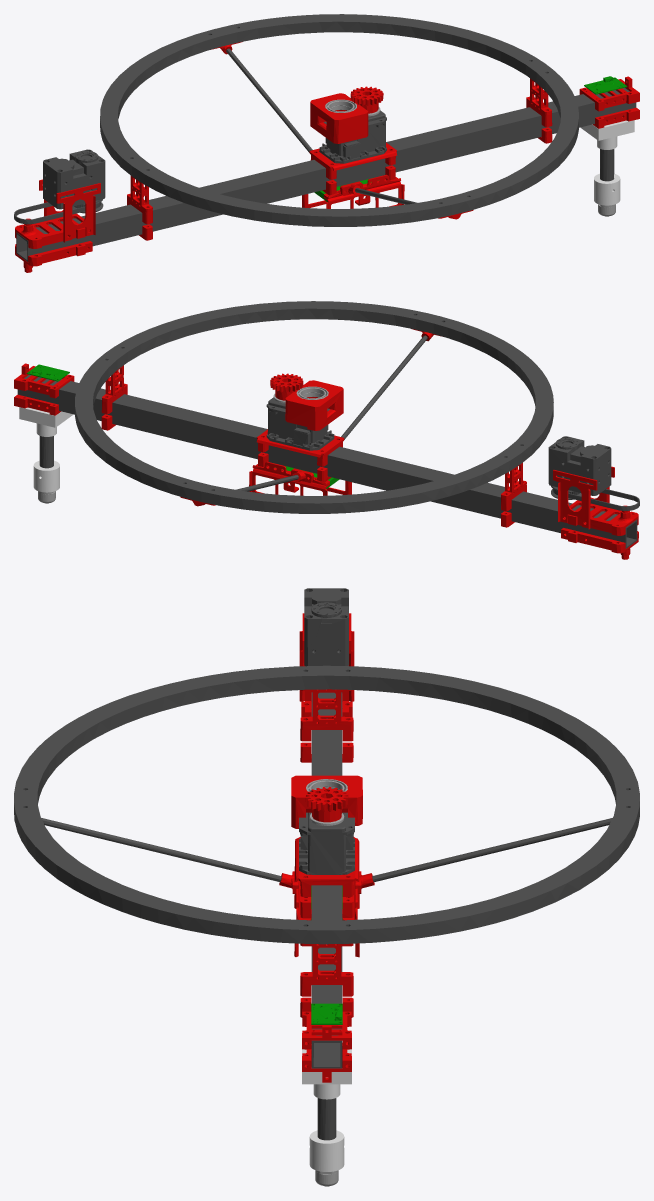
File: end_link.dae
3 renders of one model, top to bottom at view 1: azimuth 30°, elevation 25°; view 2: azimuth 150°, elevation 25°; view 3: azimuth 270°, elevation 25°, orthographic. The views are drawn at different scales.
Parts seen in each view (by area): view 1: Black, Red, White, Silver, Green; view 2: Black, Red, White, Silver, Green; view 3: Black, Red, White, Silver.
Part boxes in pixels (<box>): Black: <box>14,14,636,261</box>; Red: <box>15,41,639,272</box>; White: <box>580,120,634,205</box>; Silver: <box>325,99,615,216</box>; Green: <box>314,76,627,201</box>; Black: <box>17,301,639,548</box>; Red: <box>14,328,638,559</box>; White: <box>19,407,73,492</box>; Silver: <box>38,386,328,503</box>; Green: <box>26,364,339,488</box>; Black: <box>14,588,639,1140</box>; Red: <box>279,613,374,1082</box>; White: <box>302,1049,351,1171</box>; Silver: <box>306,779,347,1186</box>.
Size of the model in its own units: 0.5926 by 0.3999 by 0.1729.
